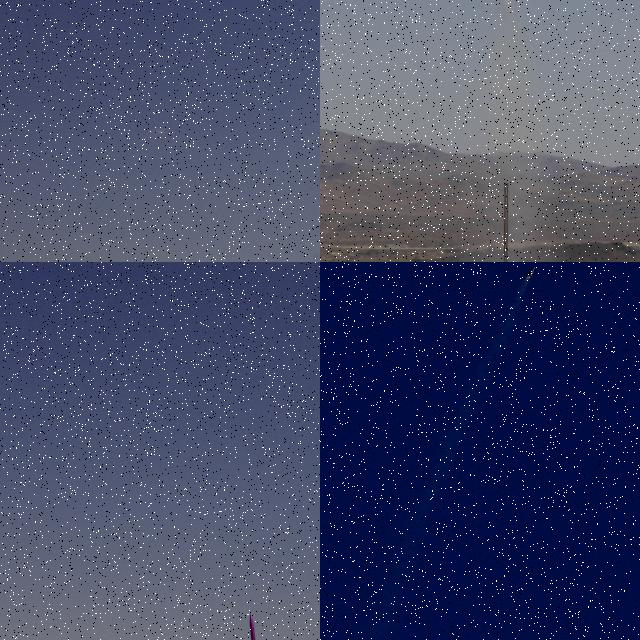Rocket: (248, 613, 265, 640), (522, 265, 536, 280)
